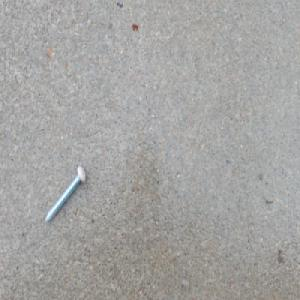Nail: (43, 164, 87, 226)
